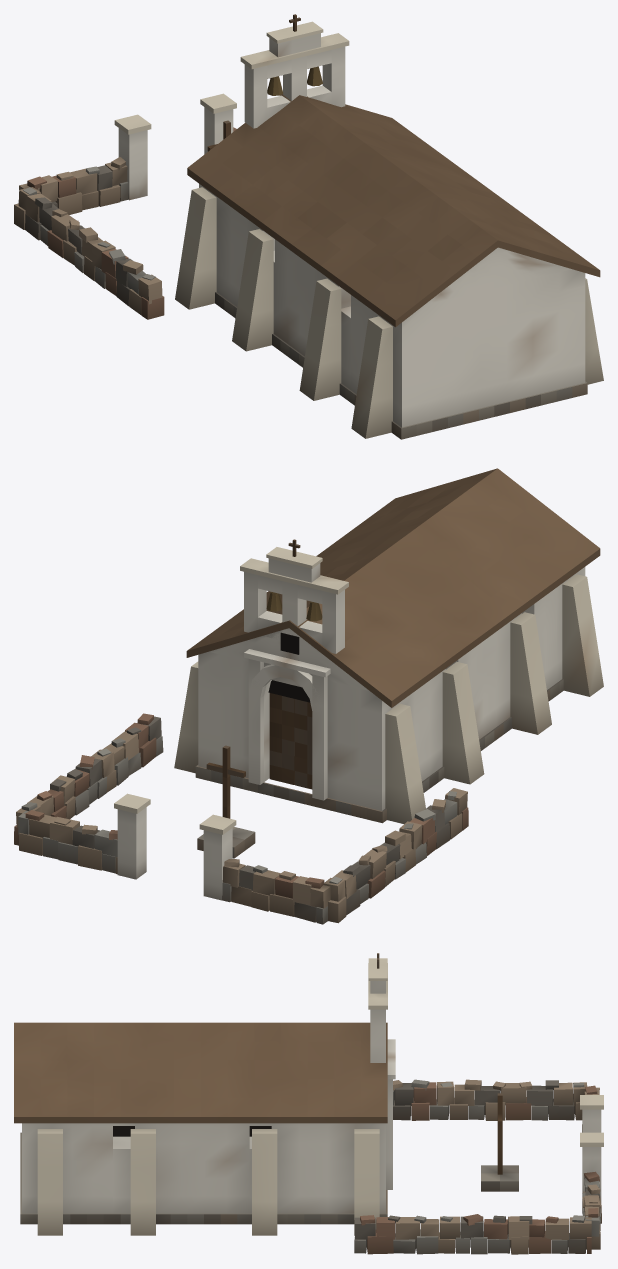
The model's file is casa_capilla_b.glb.
3 renders of one model, top to bottom at view 1: azimuth 30°, elevation 25°; view 2: azimuth 150°, elevation 25°; view 3: azimuth 270°, elevation 25°, orthographic. The views are drawn at different scales.
Visible parts, largest first — view 1: casa_capilla_b; view 2: casa_capilla_b; view 3: casa_capilla_b.
Part boxes in pixels (left/top/right/bottom): casa_capilla_b: left=14, top=14, right=603, bottom=439; casa_capilla_b: left=14, top=468, right=603, bottom=924; casa_capilla_b: left=14, top=953, right=603, bottom=1254.
Size of the model in its own units: 10.64 by 8 by 18.63.
